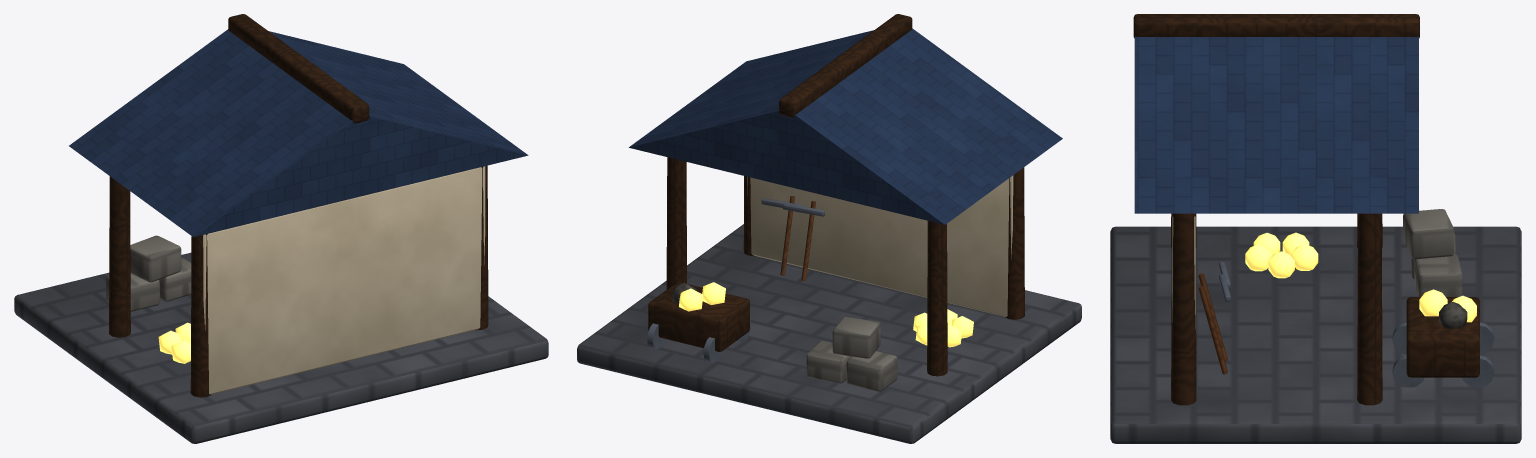
File: building_mining_camp.glb
3 renders of one model, left to right at view 1: azimuth 30°, elevation 25°; view 2: azimuth 150°, elevation 25°; view 3: azimuth 270°, elevation 25°, orthographic. The views are drawn at different scales.
Parts seen in each view (by area): view 1: building_mining_camp; view 2: building_mining_camp; view 3: building_mining_camp.
Part boxes in pixels (x1=…): building_mining_camp: x1=14, y1=14, x2=548, y2=443; building_mining_camp: x1=577, y1=14, x2=1081, y2=443; building_mining_camp: x1=1110, y1=14, x2=1521, y2=443.
Size of the model in its own units: 4.8 by 3.71 by 4.2.
Materials: 10 (8 with a texture image).
